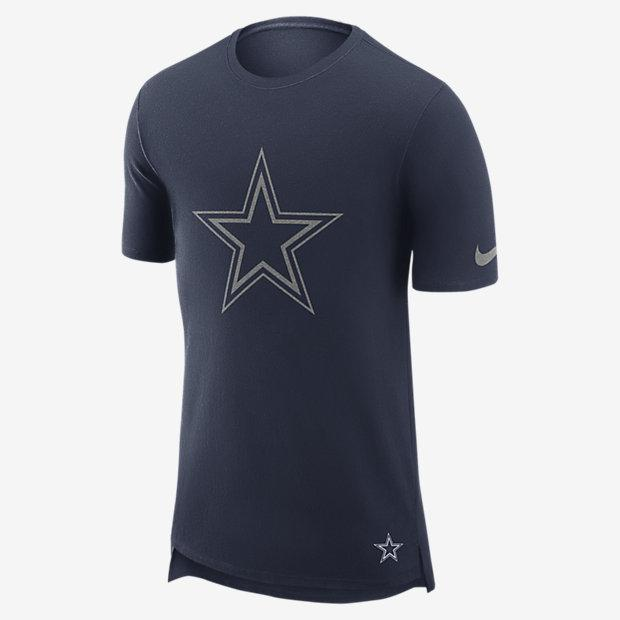teeshirt: (107, 15, 538, 613)
